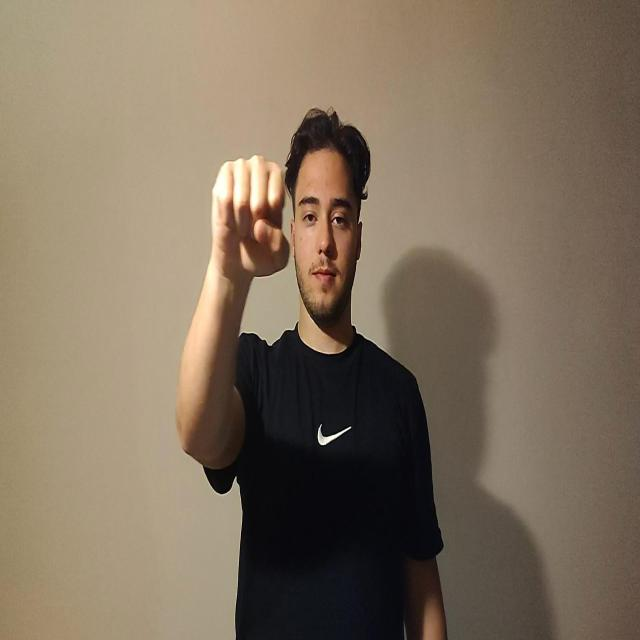yes: (210, 153, 290, 284)
